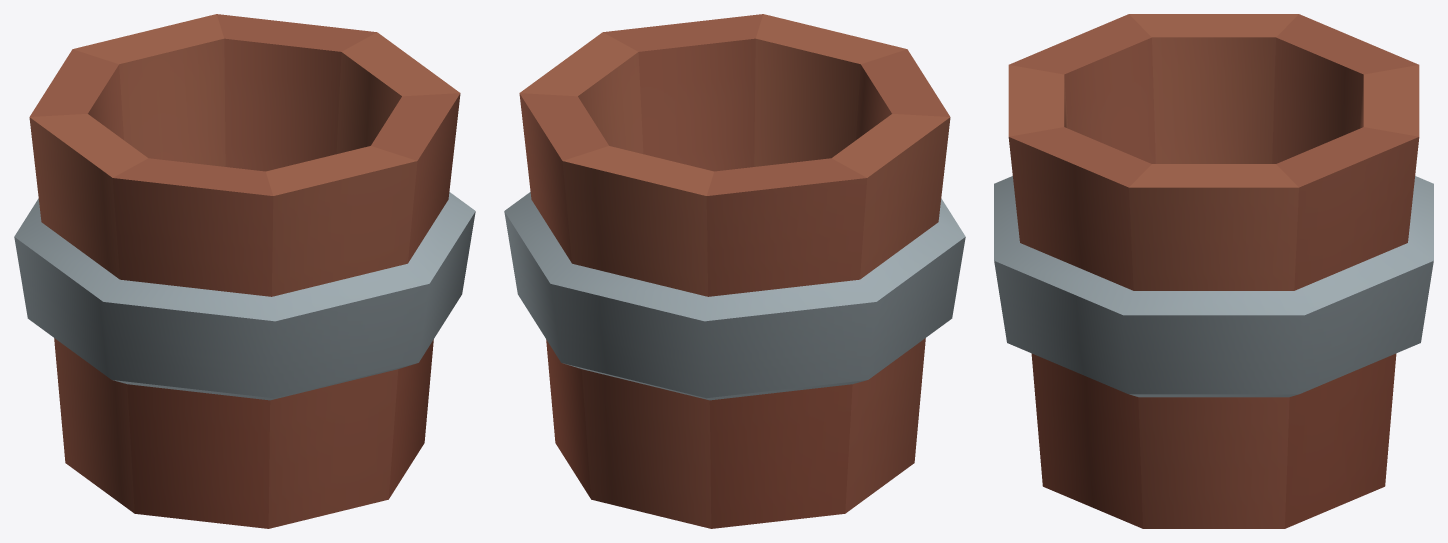
File: bucket_empty.glb
The picture shows the model from 3 angles, left to right: view 1: azimuth 30°, elevation 25°; view 2: azimuth 150°, elevation 25°; view 3: azimuth 270°, elevation 25°; orthographic projection. The views are drawn at different scales.
Parts seen in each view (by area): view 1: bucket_empty; view 2: bucket_empty; view 3: bucket_empty.
Boxes of the visible parts, x1,y1,x2,y2 form: bucket_empty: (14,14,475,528); bucket_empty: (504,14,965,528); bucket_empty: (994,14,1433,528).
Bounding box in the file's own units: 0.14 × 0.125 × 0.14.
Materials: 1 (1 with a texture image).
